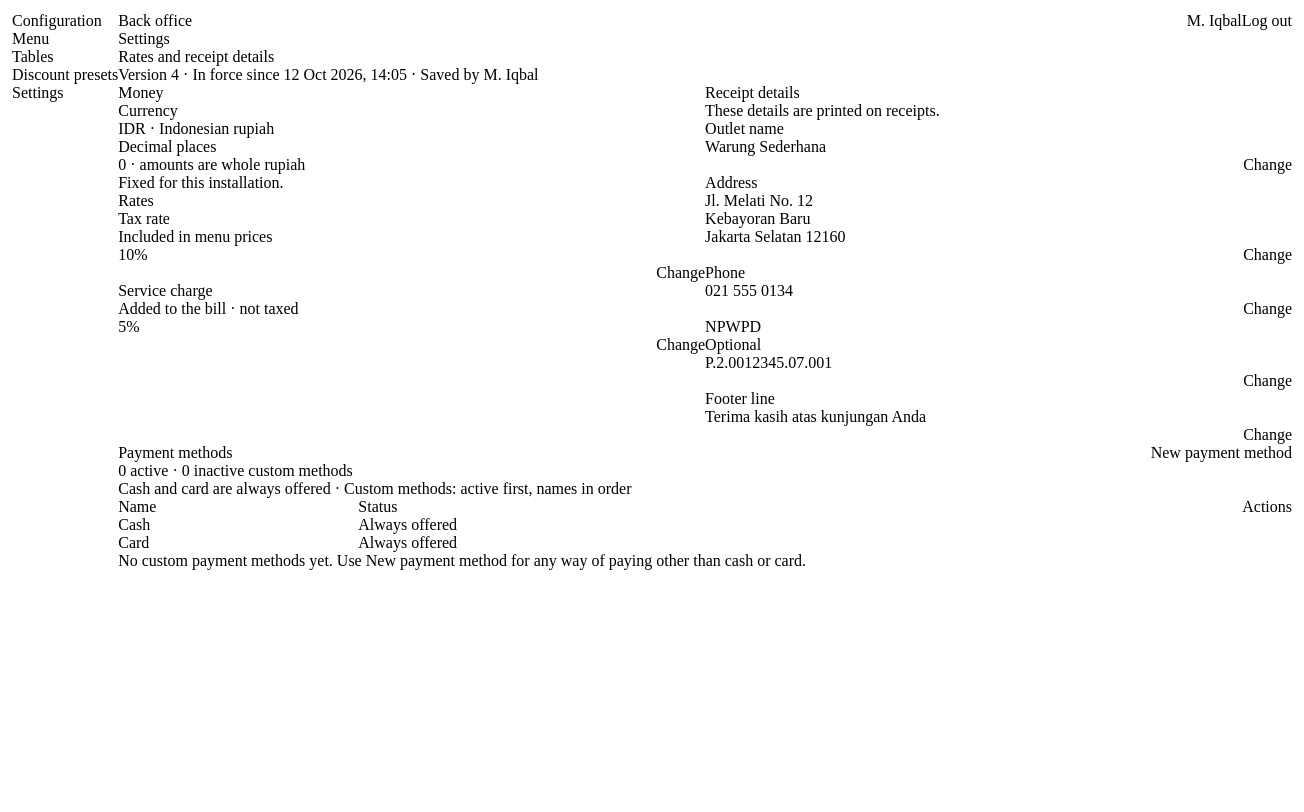
Test: the decision before unsaved work is left › a clean form closes on Cancel and on Escape with no decision
Click the 4th button "Change". click: point(1268, 309)
box: [1243,300,1292,318]
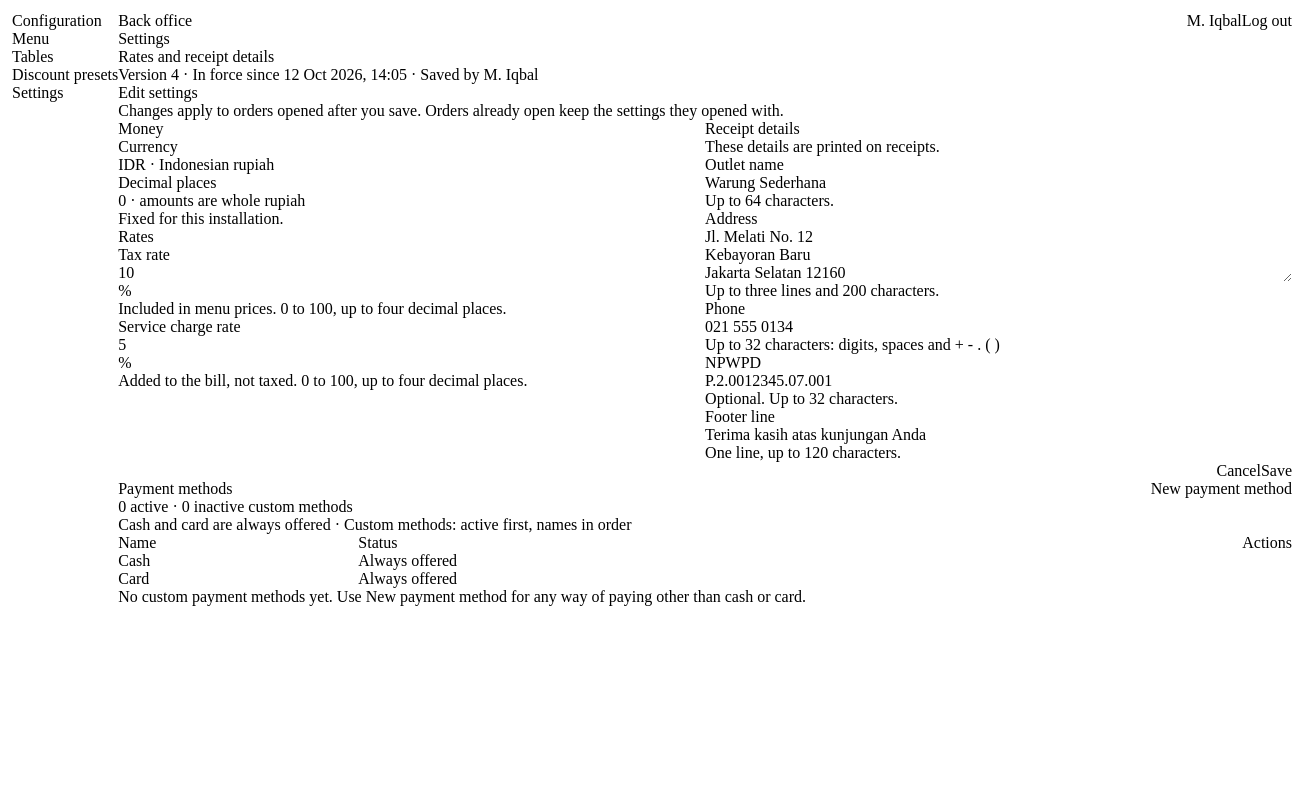
Click the button "Cancel". click: point(1239, 471)
box: [1216,462,1261,480]
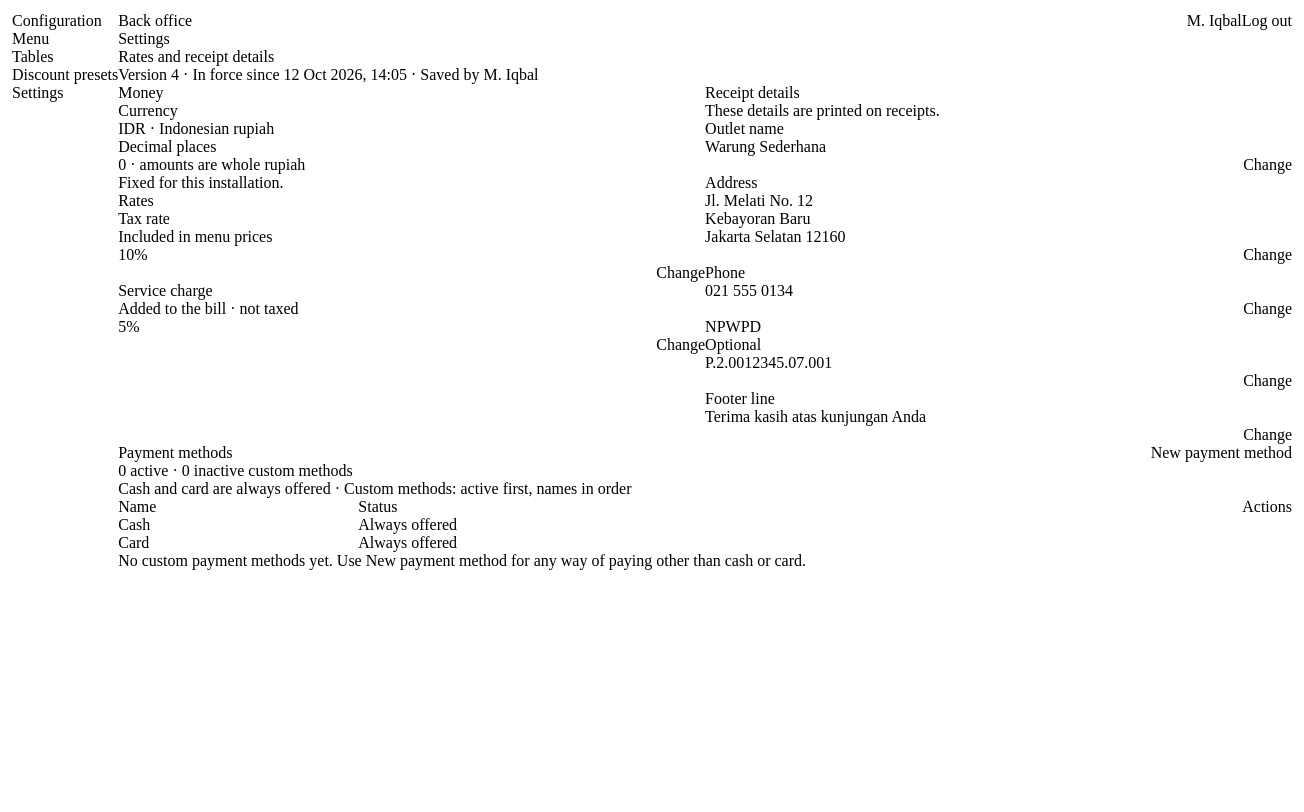
Result: the form with id "settings-form" is gone
Click the 7th button "Change". click: point(1268, 435)
box: [1243,426,1292,444]
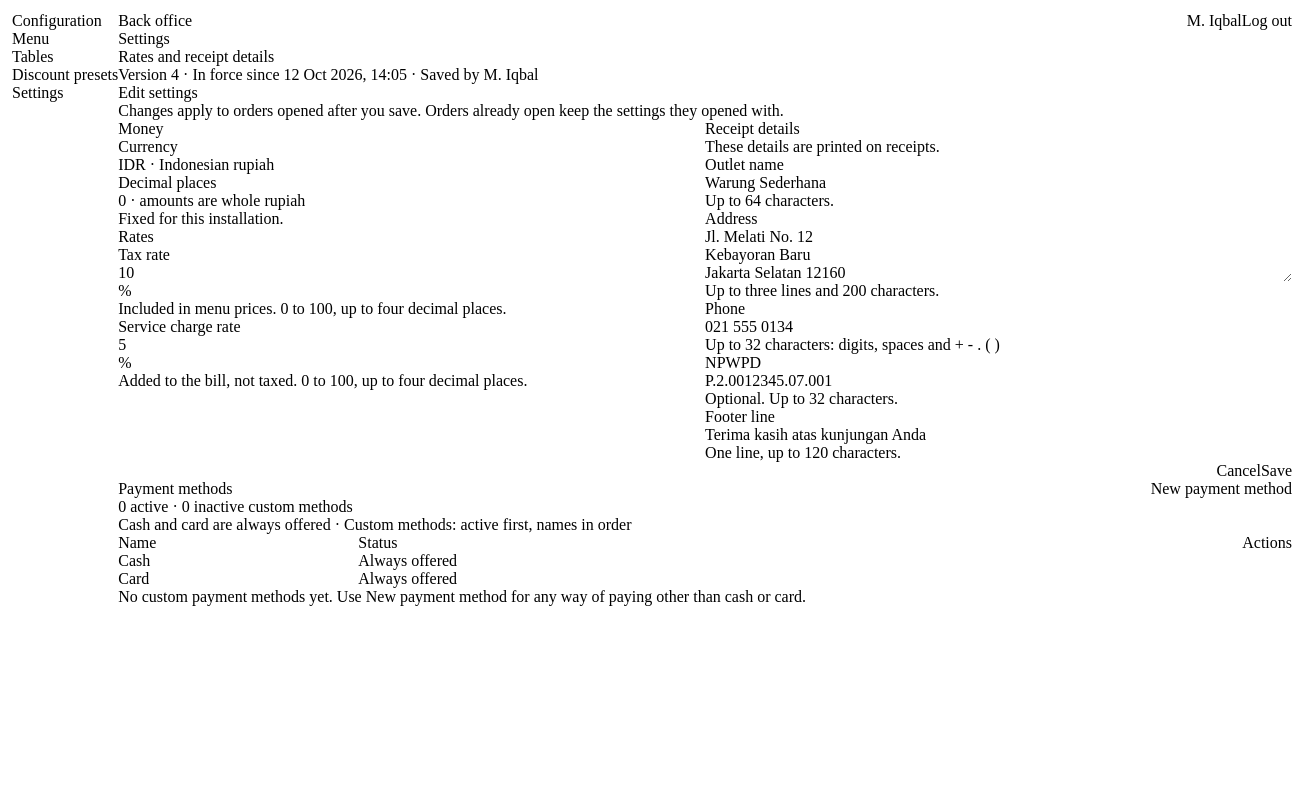
Press Escape in the field labelled "Footer line", box [705,426,1292,444]
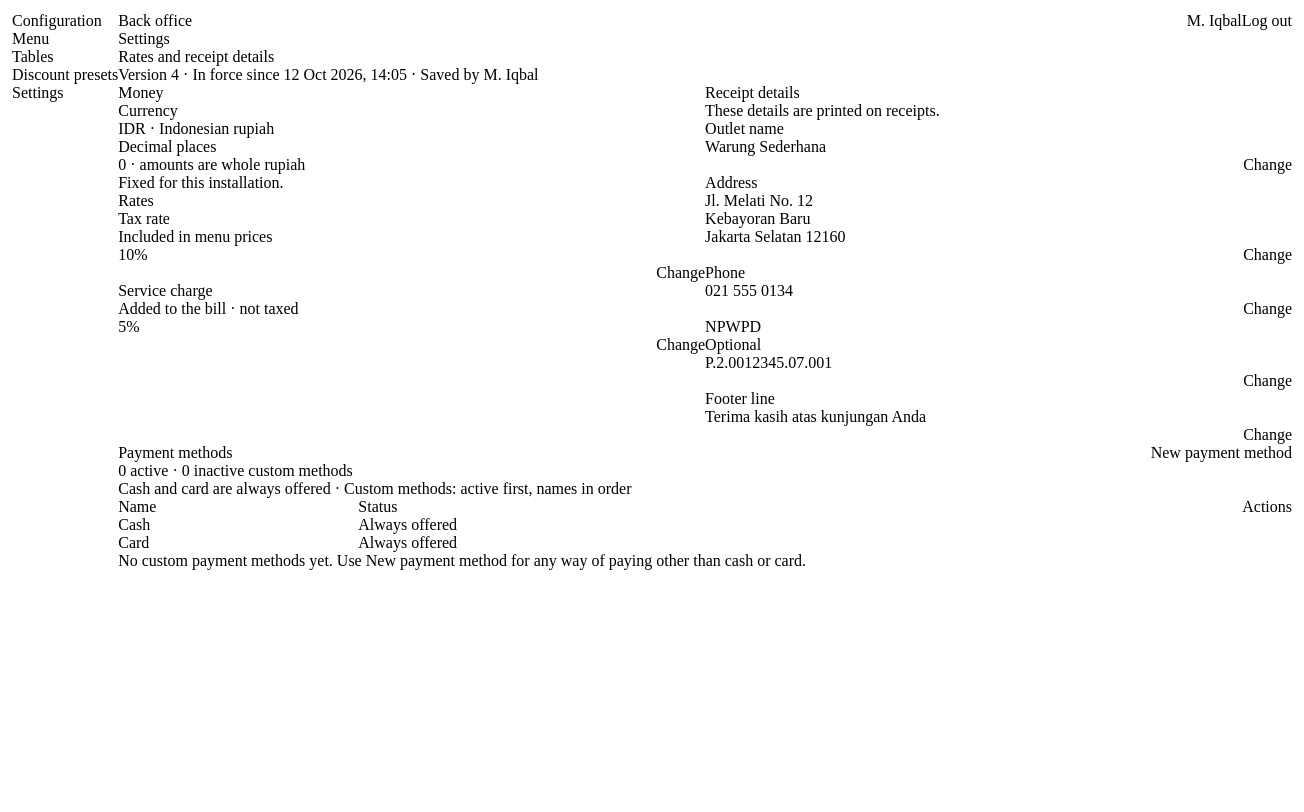
Result: the form with id "settings-form" is gone
